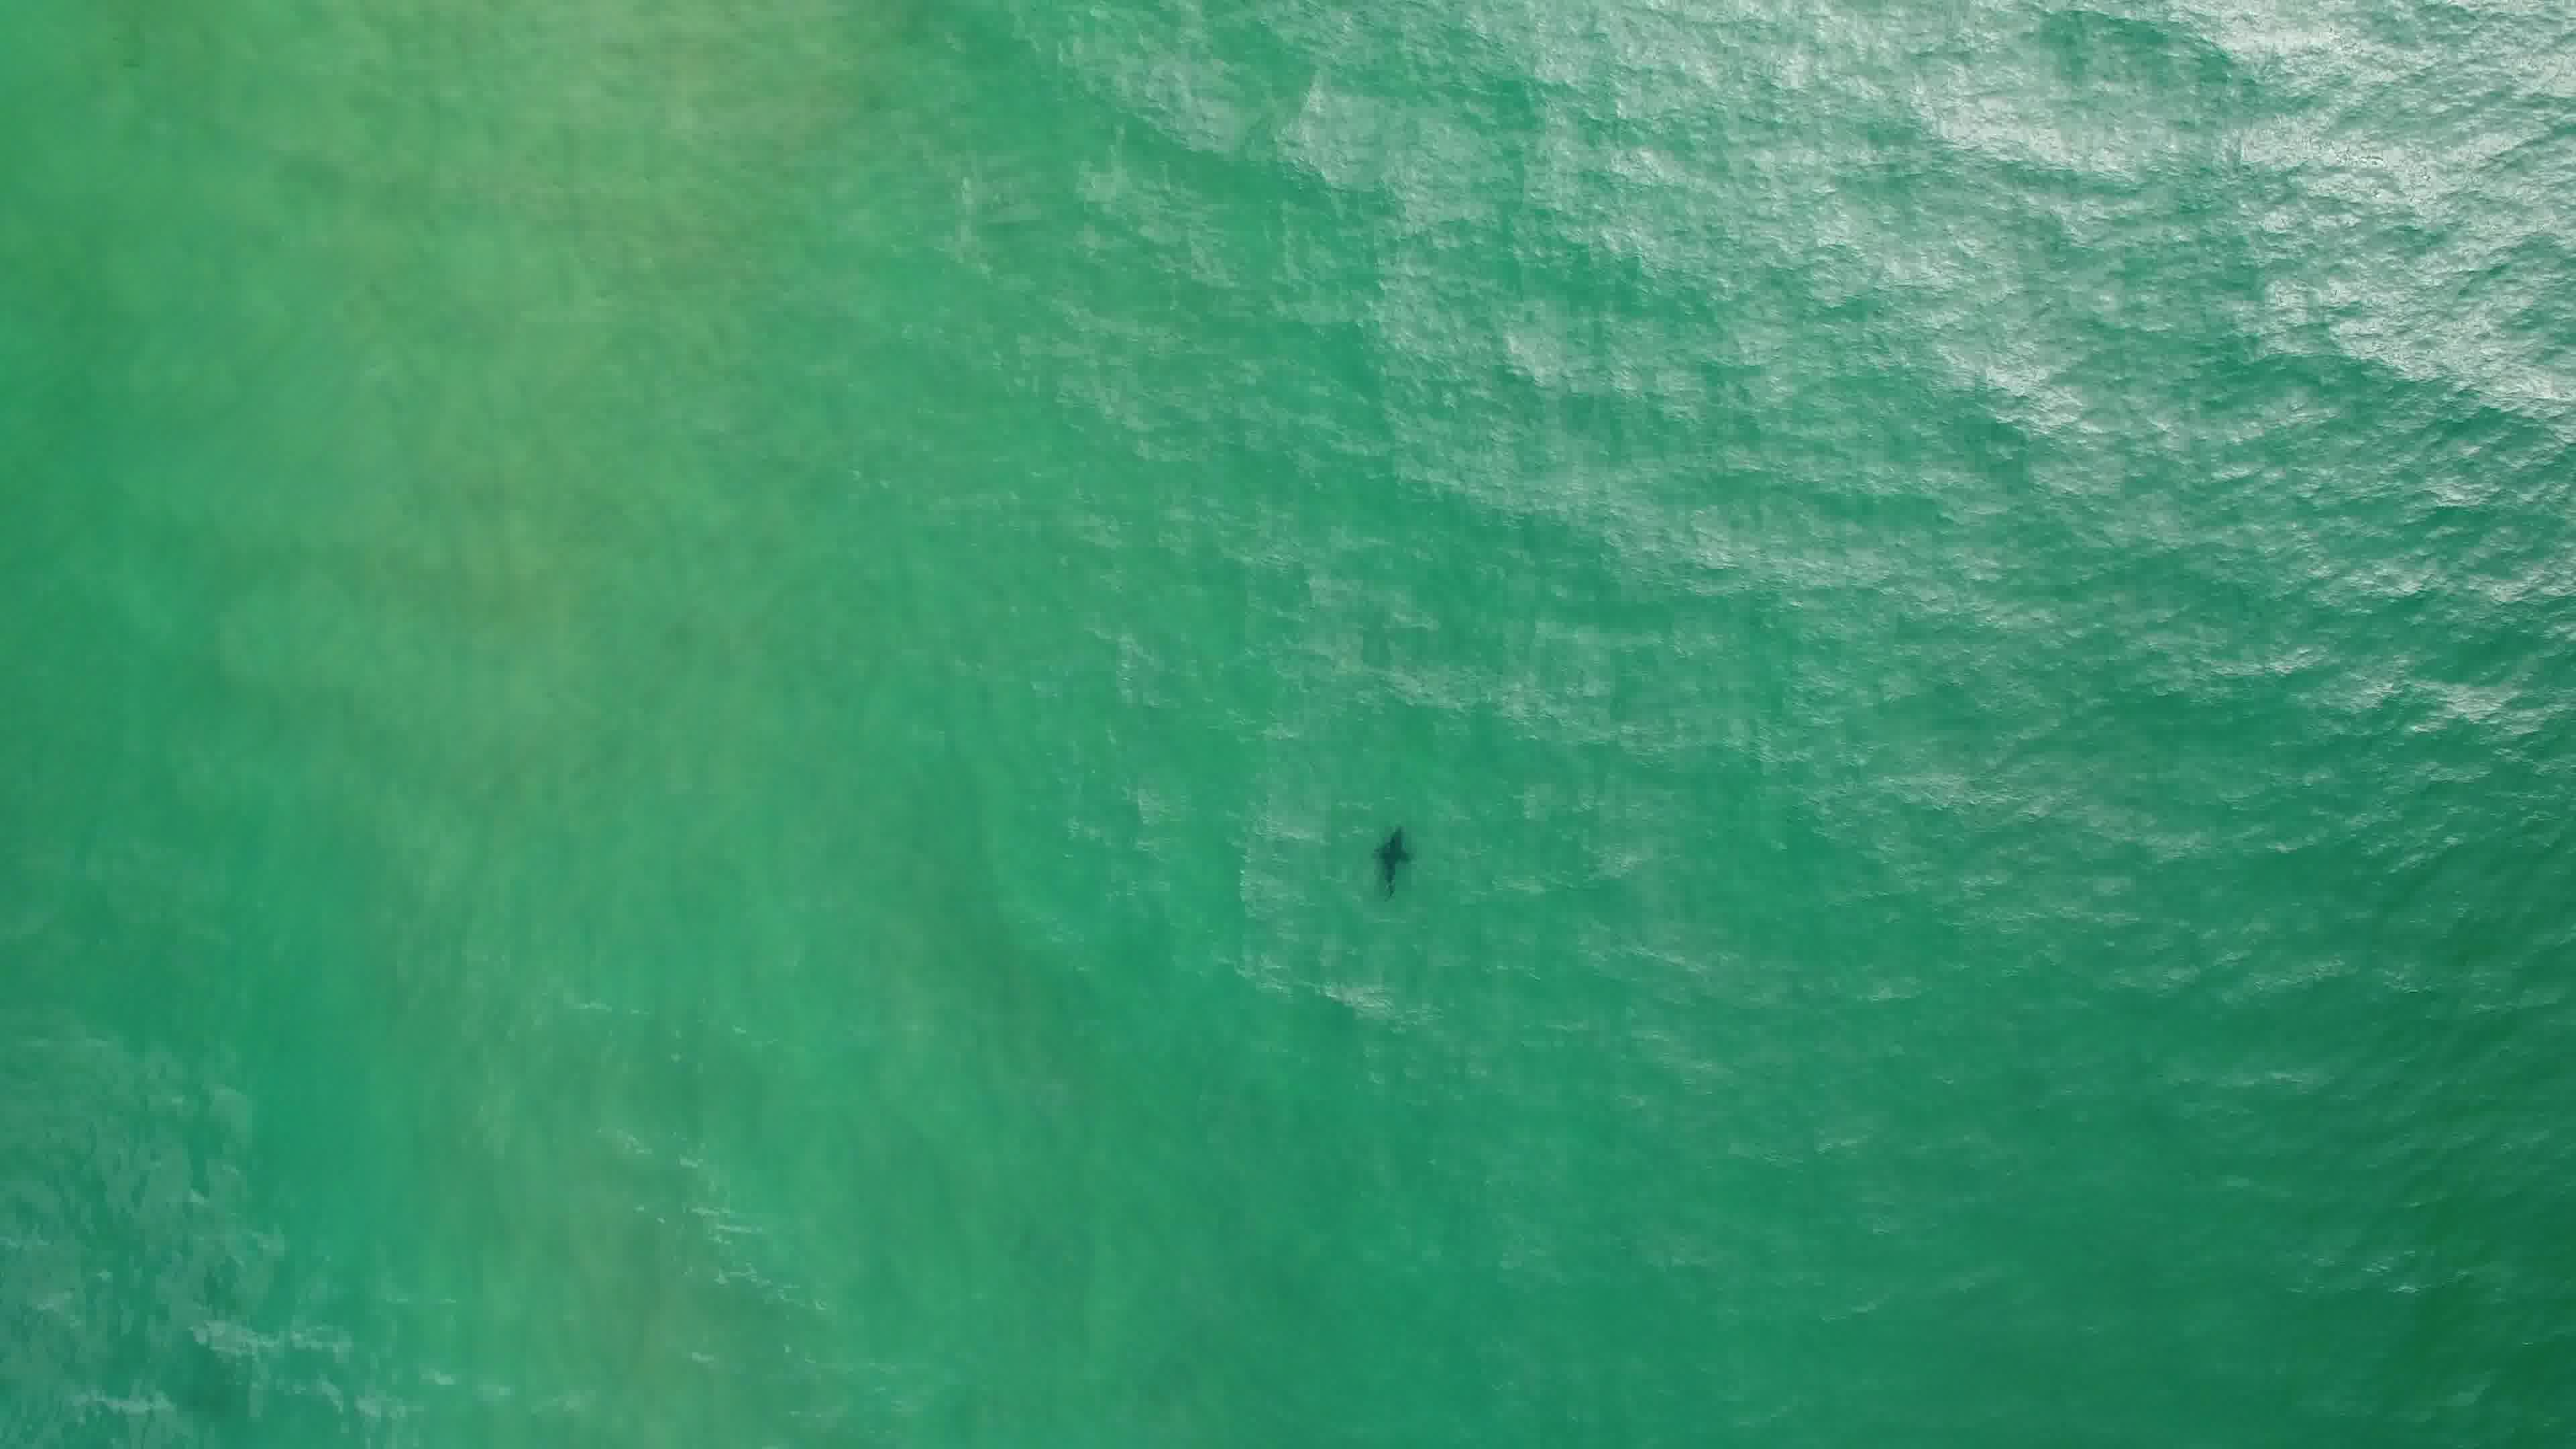shark: (1368, 816, 1421, 902)
